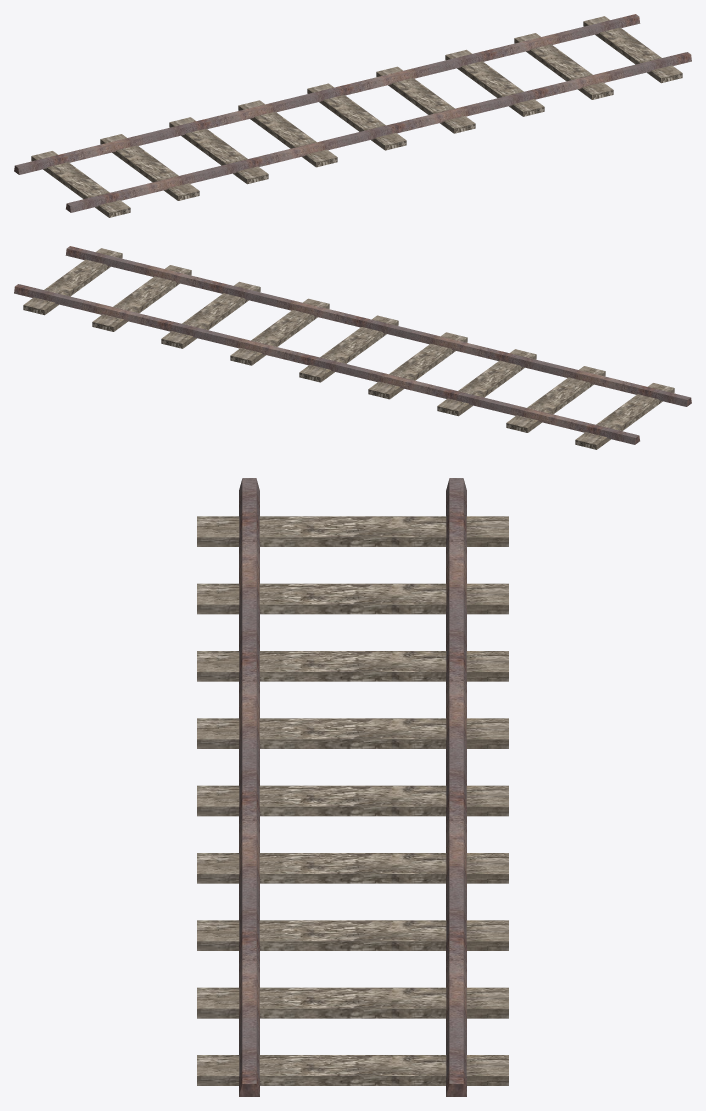
Rendered from Rails.fbx.
3 renders of one model, top to bottom at view 1: azimuth 30°, elevation 25°; view 2: azimuth 150°, elevation 25°; view 3: azimuth 270°, elevation 25°, orthographic. The views are drawn at different scales.
Parts seen in each view (by area): view 1: Rails; view 2: Rails; view 3: Rails.
Part boxes in pixels (x1,y1,x2,y2): Rails: (14,14,691,217); Rails: (14,246,691,449); Rails: (197,478,508,1096).
Size of the model in its own units: 828 by 13.34 by 180.
